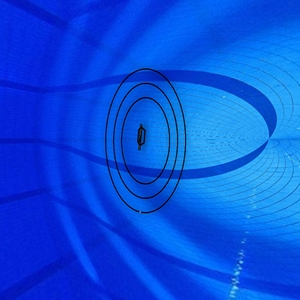circle: (102, 67, 190, 216)
submarine: (131, 121, 151, 157)
